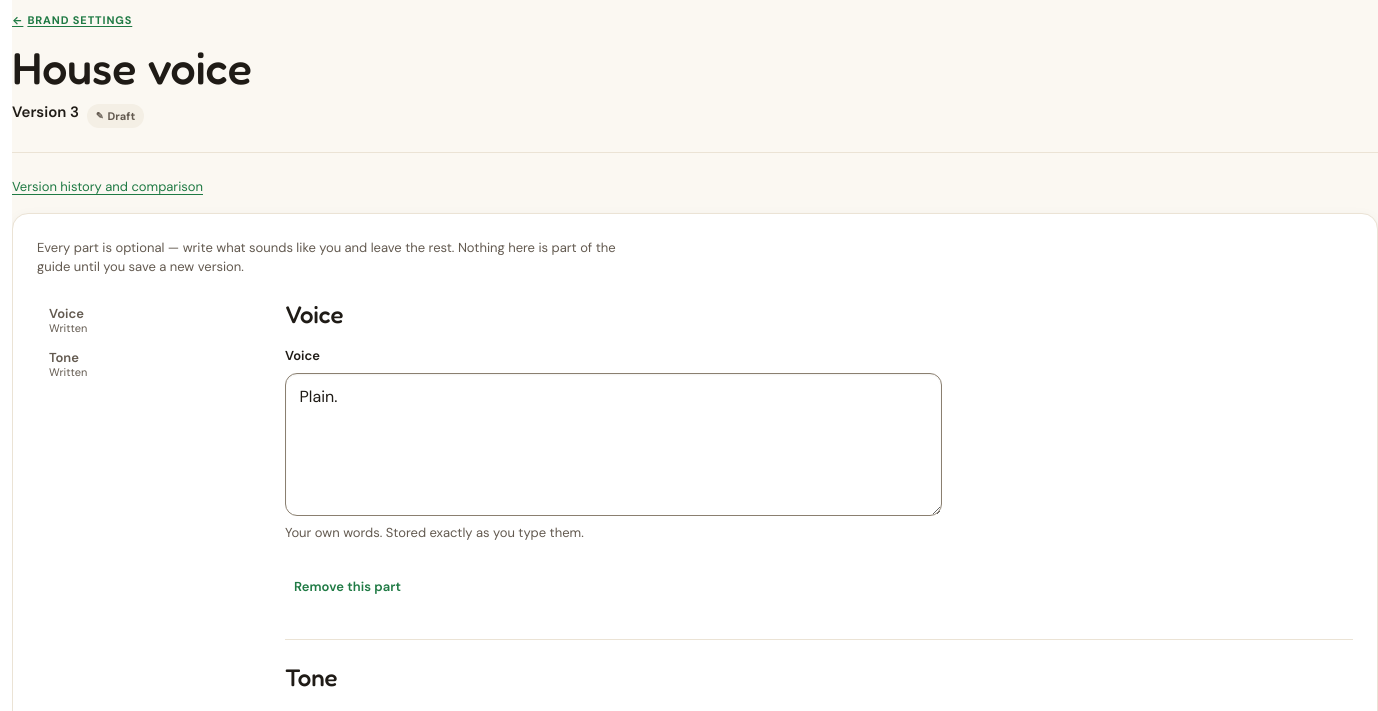
Test case: BrandGuideEditorComponent › says plainly when nothing had changed, without asking the server
Replace the text in the text box labelled "Voice" with "Changed.": (613, 445) x1=285 y1=373 x2=942 y2=516
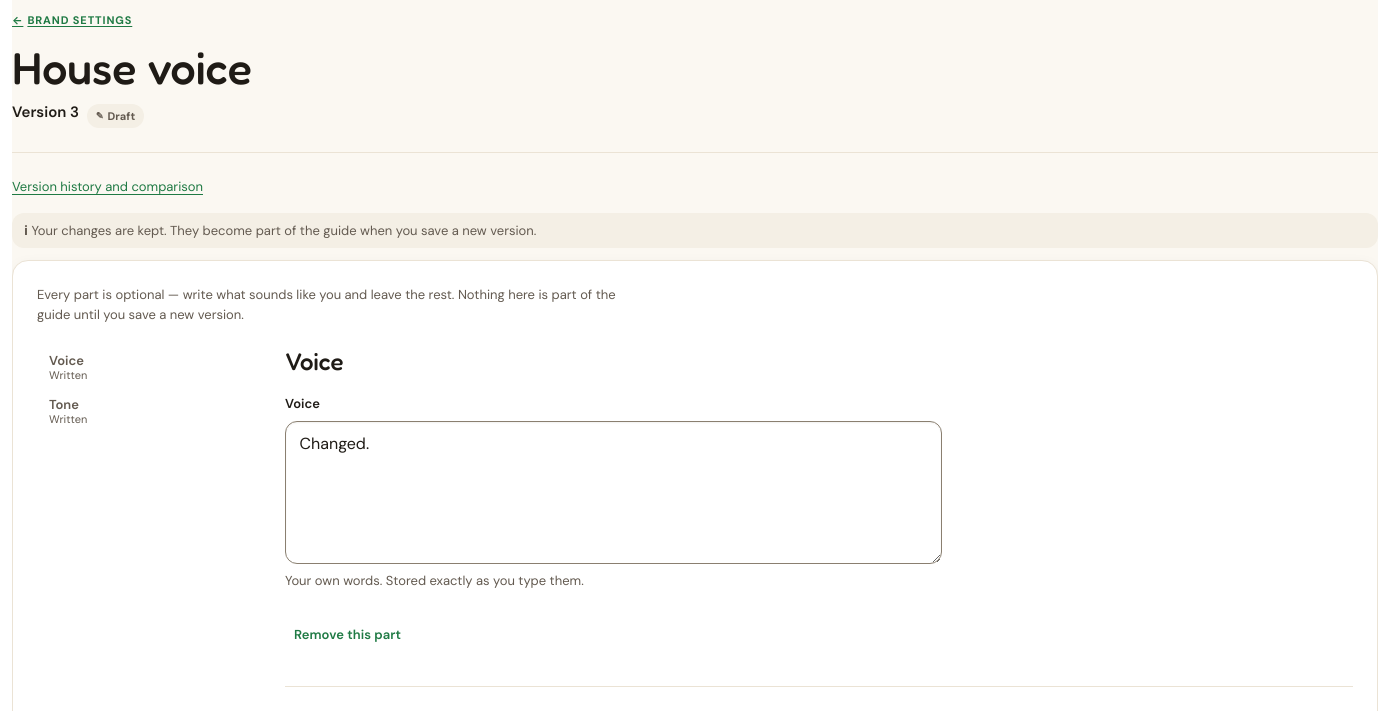
Replace the text in the text box labelled "Voice" with "Plain.": (613, 492) x1=285 y1=421 x2=942 y2=564
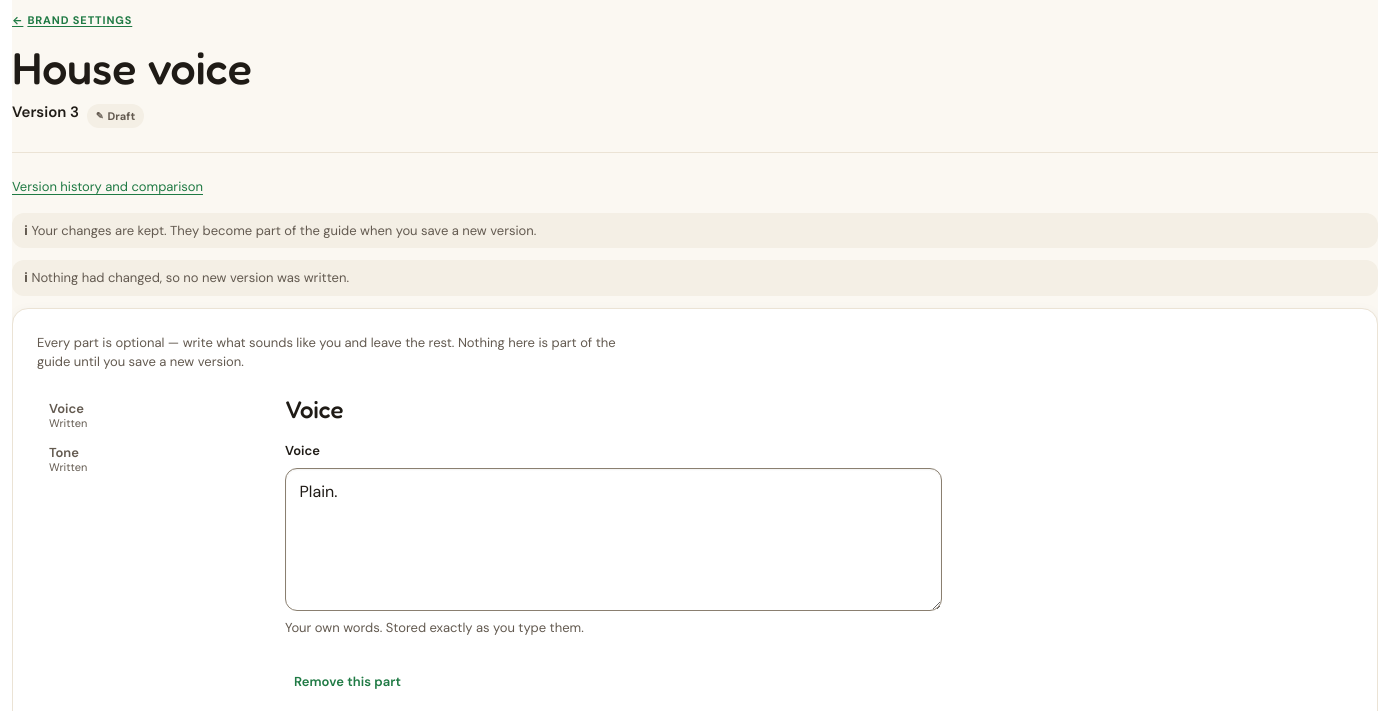
Now the text "no new version was written" is shown, box x1=28 y1=269 x2=349 y2=286
